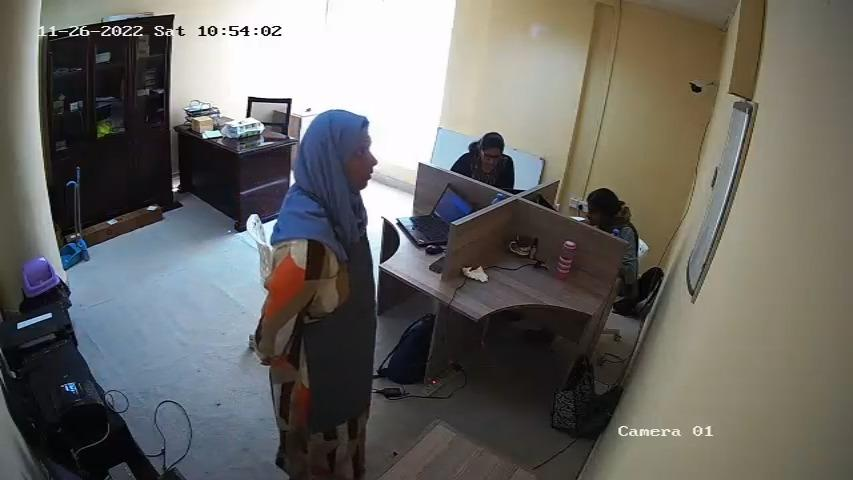apron: (300, 213, 383, 433)
